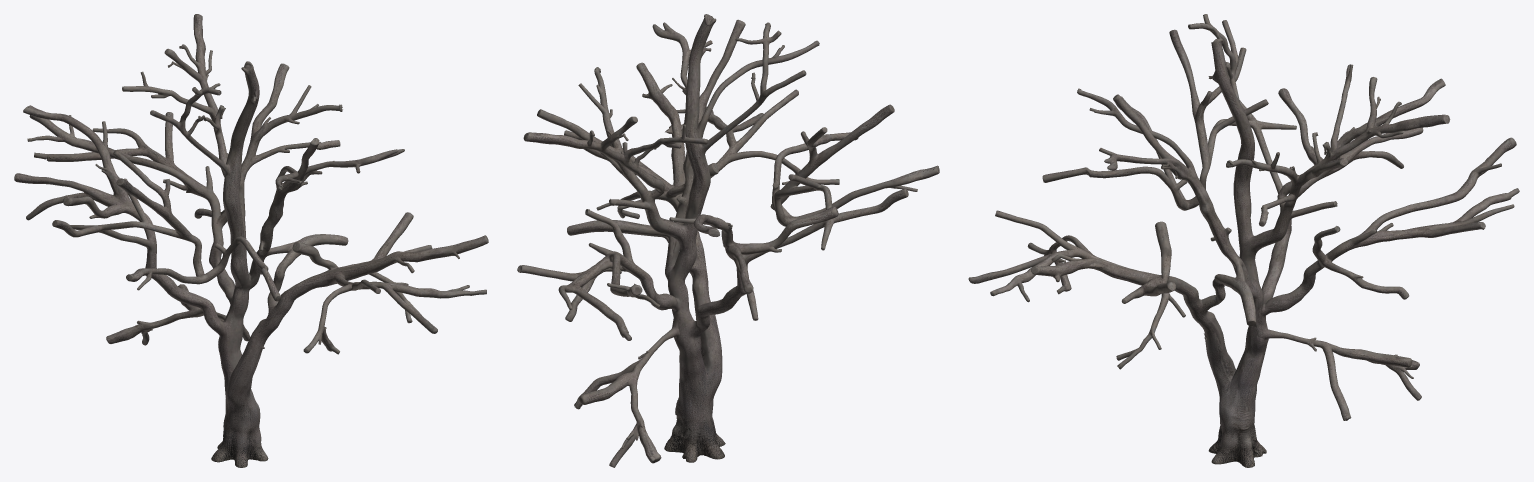
3 renders of one model, left to right at view 1: azimuth 30°, elevation 25°; view 2: azimuth 150°, elevation 25°; view 3: azimuth 270°, elevation 25°, orthographic. The views are drawn at different scales.
Parts seen in each view (by area): view 1: tripo_node_61450b61-de03-48b6-99eb-86479da87e6c; view 2: tripo_node_61450b61-de03-48b6-99eb-86479da87e6c; view 3: tripo_node_61450b61-de03-48b6-99eb-86479da87e6c.
Part boxes in pixels (x1,y1,x2,y2): tripo_node_61450b61-de03-48b6-99eb-86479da87e6c: (14,14,488,467); tripo_node_61450b61-de03-48b6-99eb-86479da87e6c: (517,14,939,467); tripo_node_61450b61-de03-48b6-99eb-86479da87e6c: (968,14,1519,467).
Bounding box in the file's own units: 0.7391 × 0.8216 × 0.9839.
1 material, 1 textured.
